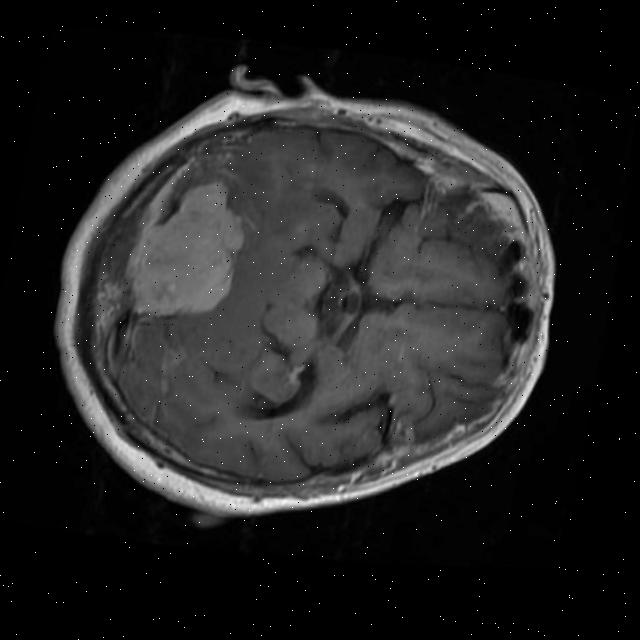Meningioma: (115, 163, 258, 334)
